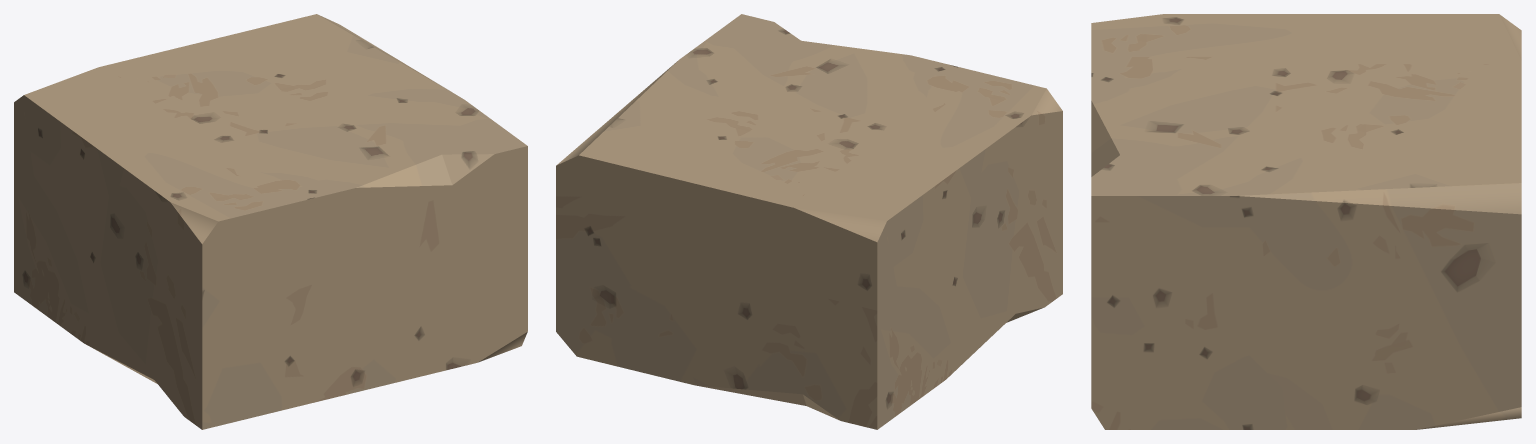
File: SM_Bld_Trim_Temple_Ground_Corner_01.fbx
3 views of the same model, side by side, from view 1: azimuth 30°, elevation 25°; view 2: azimuth 150°, elevation 25°; view 3: azimuth 270°, elevation 25° (orthographic). The views are drawn at different scales.
Parts seen in each view (by area): view 1: SM_Bld_Trim_Temple_Ground_Corner_01; view 2: SM_Bld_Trim_Temple_Ground_Corner_01; view 3: SM_Bld_Trim_Temple_Ground_Corner_01.
Part boxes in pixels (bbox=[...]): SM_Bld_Trim_Temple_Ground_Corner_01: bbox=[14, 14, 527, 429]; SM_Bld_Trim_Temple_Ground_Corner_01: bbox=[556, 14, 1062, 429]; SM_Bld_Trim_Temple_Ground_Corner_01: bbox=[1091, 14, 1521, 429].
Size of the model in its own units: 200 by 120 by 200.
